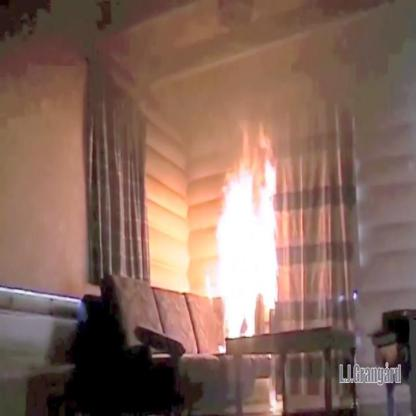fire: (204, 154, 282, 343)
